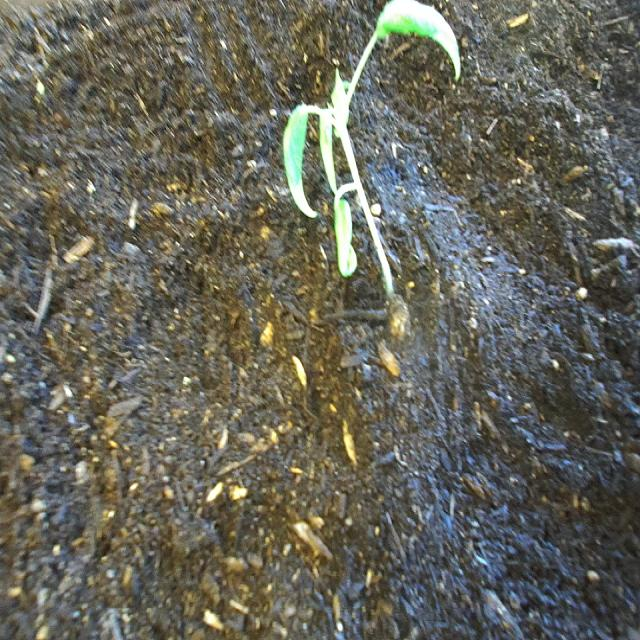Healthy: (264, 0, 482, 338)
